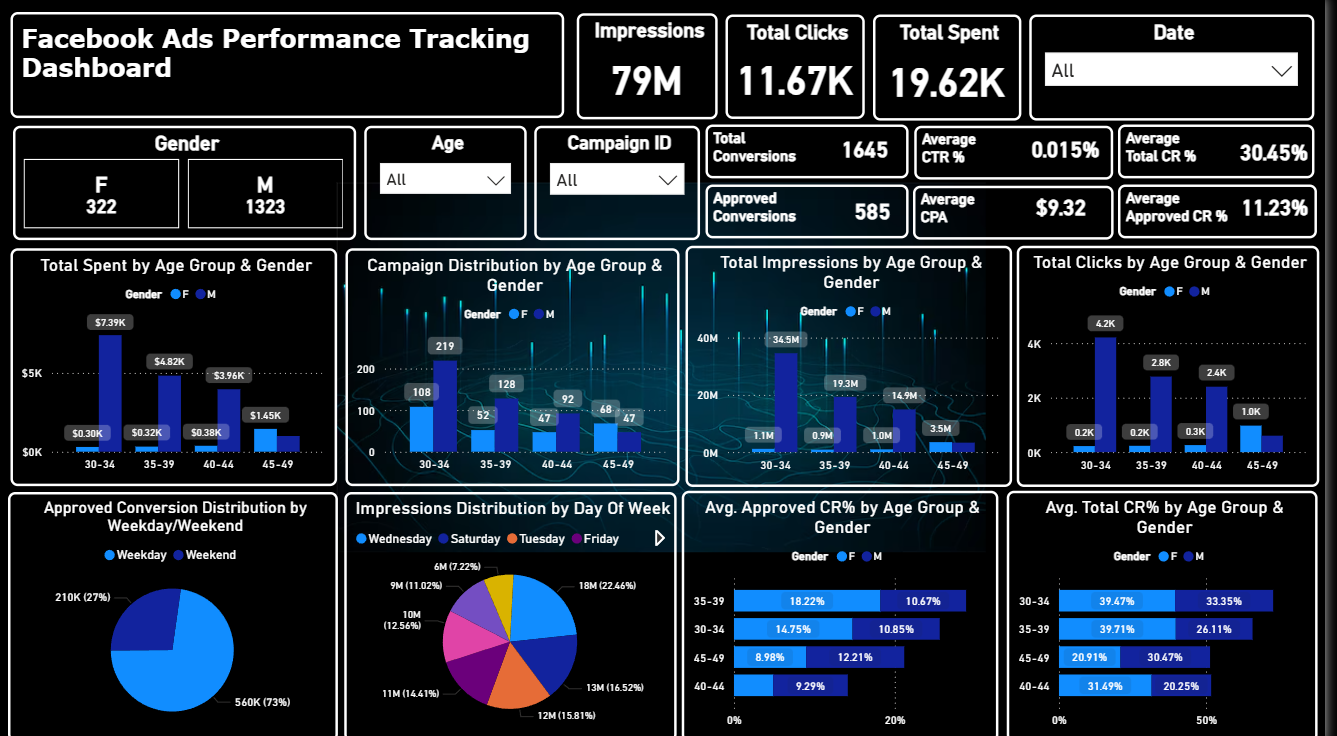

This screenshot's page, from the dashboard's own definition file:
{"tool":"powerbi","page":{"name":"Page 2","canvas":[1280,720],"ordinal":1},"visuals":[{"type":"textbox","box":[12.6,14,534.3,102.4],"z":0},{"type":"card","title":"Impressions","fields":{"Values":["Sum(data.impressions)"]},"box":[558.1,15.4,136,102.4],"z":1000},{"type":"card","title":"Total Clicks","fields":{"Values":["Sum(data.clicks)"]},"box":[702.5,16.8,134.6,101],"z":2000},{"type":"card","title":"Total Spent","fields":{"Values":["Sum(data.spent)"]},"box":[844.2,16.8,143,102.4],"z":3000},{"type":"slicer","title":"Date","fields":{"Values":["data.DateLabel"]},"box":[995.6,16.8,274.8,102.4],"z":4000},{"type":"advancedSlicerVisual","title":"Gender","fields":{"Values":["data.gender"],"Label":["Sum(data.total_conversion)"]},"box":[14,124.8,330.9,110.8],"z":5000},{"type":"slicer","title":"Age","fields":{"Values":["data.age_group"]},"box":[353.4,124.8,157.1,110.8],"z":6000},{"type":"slicer","title":"Campaign ID","fields":{"Values":["data.campaign_id"]},"box":[517.4,124.8,159.9,110.8],"z":7000},{"type":"textbox","box":[682.9,123.4,196.3,51.9],"z":8000},{"type":"textbox","box":[682.9,180.9,196.3,51.9],"z":9000},{"type":"card","title":"Total Conversions","fields":{"Values":["Sum(data.total_conversion)"]},"box":[804.9,119.2,64.5,56.1],"z":10000},{"type":"card","fields":{"Values":["Sum(data.approved_conversion)"]},"box":[807.7,182.3,71.5,50.5],"z":11000},{"type":"textbox","box":[884.8,124.8,192.1,51.9],"z":12000},{"type":"textbox","box":[883.4,182.3,193.5,51.9],"z":13000},{"type":"textbox","box":[1081.2,123.4,189.3,51.9],"z":14000},{"type":"textbox","box":[1081.2,180.9,192.1,51.9],"z":15000},{"type":"card","title":"Total Conversions","fields":{"Values":["Avg(data.CTR%)"]},"box":[987.2,119.2,86.9,56.1],"z":16000},{"type":"card","title":"Total Conversions","fields":{"Values":["Avg(data.CPA)"]},"box":[978.8,175.3,95.4,56.1],"z":17000},{"type":"card","title":"Total Conversions","fields":{"Values":["Avg(data.Total CR%)"]},"box":[1189.1,122,84.1,56.1],"z":18000},{"type":"card","title":"Total Conversions","fields":{"Values":["Avg(data.Approved CR%)"]},"box":[1184.6,175.3,95.4,56.1],"z":19000},{"type":"clusteredColumnChart","title":"Total Spent by Age Group & Gender","fields":{"Category":["data.age_group"],"Y":["Sum(data.spent)"],"Series":["data.gender"]},"box":[12.6,242.6,315.5,230],"z":20000},{"type":"clusteredColumnChart","title":"Campaign Distribution by Age Group & Gender","fields":{"Category":["data.age_group"],"Y":["CountNonNull(data.campaign_id)"],"Series":["data.gender"]},"box":[335.1,242.6,322.5,230],"z":21000},{"type":"pieChart","title":"Impressions Distribution by Day Of Week","fields":{"Y":["Sum(data.impressions)"],"Category":["data.DayOfWeek"]},"box":[333.7,478.2,321.1,241.2],"z":22000},{"type":"pieChart","title":"Approved Conversion Distribution by Weekday/Weekend","fields":{"Y":["Sum(data.campaign_id)"],"Category":["data.WeekdayWeekend"]},"box":[9.8,478.2,318.3,241.2],"z":23000},{"type":"barChart","title":"Avg. Total CR% by Age Group & Gender","fields":{"Category":["data.age_group"],"Y":["Avg(data.Total CR%)"],"Series":["data.gender"]},"box":[973.2,476.8,300.1,242.6],"z":24000},{"type":"barChart","title":"Avg. Approved CR% by Age Group & Gender","fields":{"Y":["Avg(data.Approved CR%)"],"Category":["data.age_group"],"Series":["data.gender"]},"box":[660.5,476.8,305.7,242.6],"z":25000},{"type":"clusteredColumnChart","title":"Total Impressions by Age Group & Gender","fields":{"Category":["data.age_group"],"Series":["data.gender"],"Y":["Sum(data.impressions)"]},"box":[663.3,239.8,315.5,232.8],"z":26000},{"type":"clusteredColumnChart","title":"Total Clicks by Age Group & Gender","fields":{"Category":["data.age_group"],"Series":["data.gender"],"Y":["Sum(data.clicks)"]},"box":[983,239.8,291.7,232.8],"z":27000}]}

Visuals, with their boxes in screenshot pixels (x1, y1, x2, y2), scaled from the page's 1280x720 canvas onto the 1337x736 screenshot:
textbox: select_region(13, 14, 571, 119)
"Impressions" card: select_region(583, 16, 725, 120)
"Total Clicks" card: select_region(734, 17, 874, 120)
"Total Spent" card: select_region(882, 17, 1031, 122)
"Date" slicer: select_region(1040, 17, 1327, 122)
"Gender" advancedSlicerVisual: select_region(15, 128, 360, 241)
"Age" slicer: select_region(369, 128, 533, 241)
"Campaign ID" slicer: select_region(540, 128, 707, 241)
textbox: select_region(713, 126, 918, 179)
textbox: select_region(713, 185, 918, 238)
"Total Conversions" card: select_region(841, 122, 908, 179)
card - Sum(data.approved_conversion): select_region(844, 186, 918, 238)
textbox: select_region(924, 128, 1125, 181)
textbox: select_region(923, 186, 1125, 239)
textbox: select_region(1129, 126, 1327, 179)
textbox: select_region(1129, 185, 1330, 238)
"Total Conversions" card: select_region(1031, 122, 1122, 179)
"Total Conversions" card: select_region(1022, 179, 1122, 237)
"Total Conversions" card: select_region(1242, 125, 1330, 182)
"Total Conversions" card: select_region(1237, 179, 1336, 237)
"Total Spent by Age Group & Gender" clusteredColumnChart: select_region(13, 248, 343, 483)
"Campaign Distribution by Age Group & Gender" clusteredColumnChart: select_region(350, 248, 687, 483)
"Impressions Distribution by Day Of Week" pieChart: select_region(349, 489, 684, 735)
"Approved Conversion Distribution by Weekday/Weekend" pieChart: select_region(10, 489, 343, 735)
"Avg. Total CR% by Age Group & Gender" barChart: select_region(1017, 487, 1330, 735)
"Avg. Approved CR% by Age Group & Gender" barChart: select_region(690, 487, 1009, 735)
"Total Impressions by Age Group & Gender" clusteredColumnChart: select_region(693, 245, 1022, 483)
"Total Clicks by Age Group & Gender" clusteredColumnChart: select_region(1027, 245, 1331, 483)
